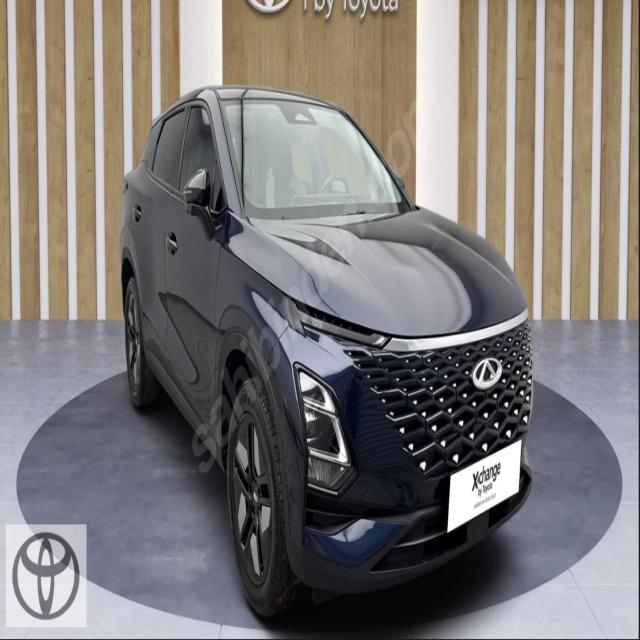cherry: (471, 354, 503, 391)
